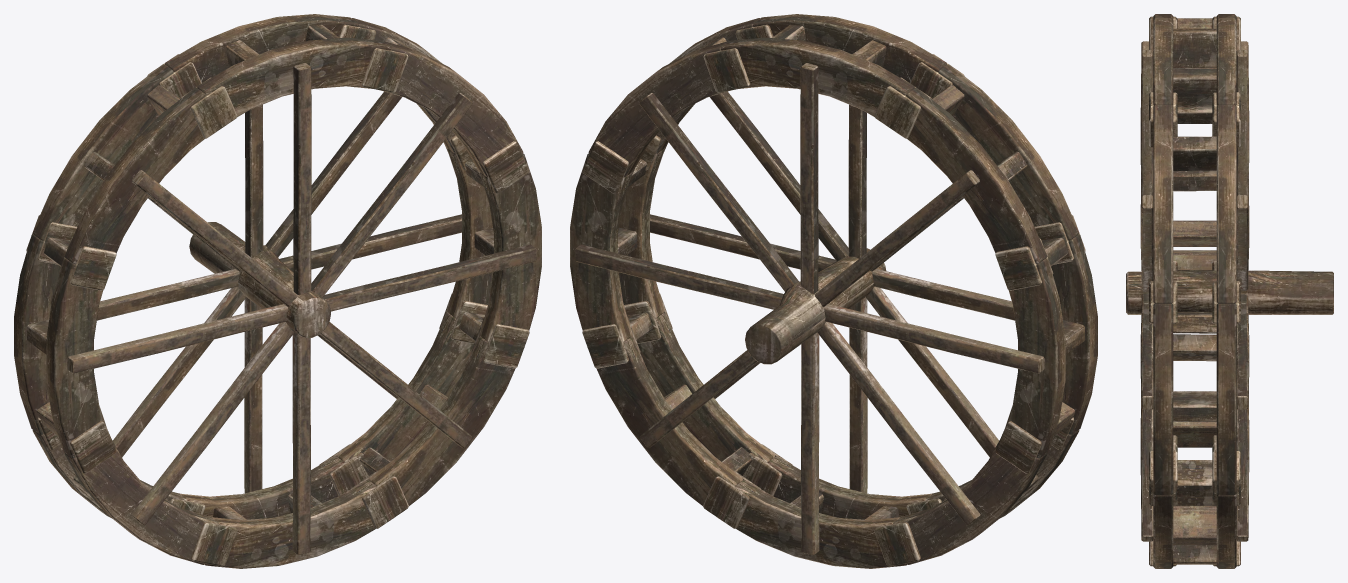
The picture shows the model from 3 angles, left to right: view 1: azimuth 30°, elevation 25°; view 2: azimuth 150°, elevation 25°; view 3: azimuth 270°, elevation 25°; orthographic projection.
Parts seen in each view (by area): view 1: SM_Village_Watermill_Wheel_01v1_LOD0; view 2: SM_Village_Watermill_Wheel_01v1_LOD0; view 3: SM_Village_Watermill_Wheel_01v1_LOD0.
Boxes of the visible parts, box(x1,y1,x2,y2) form: SM_Village_Watermill_Wheel_01v1_LOD0: box(14, 14, 541, 568); SM_Village_Watermill_Wheel_01v1_LOD0: box(570, 14, 1097, 568); SM_Village_Watermill_Wheel_01v1_LOD0: box(1126, 14, 1333, 568).
Size of the model in its own units: 3.99 by 3.99 by 1.5.
1 material, 1 textured.
